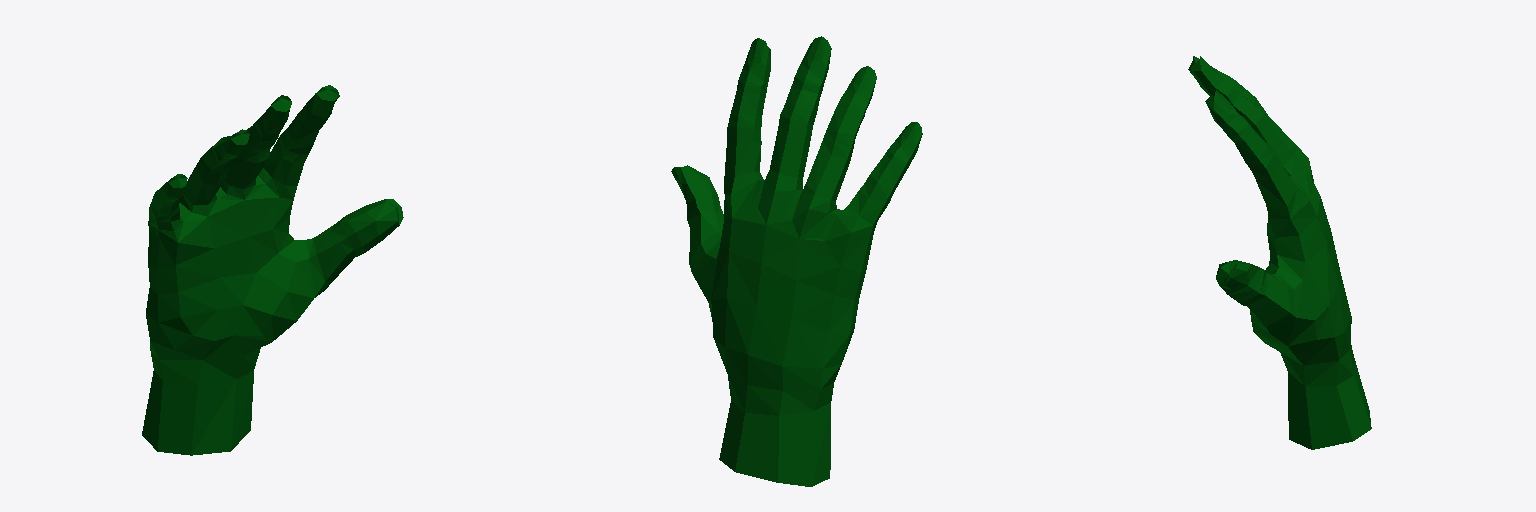
Rendered from hand.obj.
3 renders of one model, left to right at view 1: azimuth 30°, elevation 25°; view 2: azimuth 150°, elevation 25°; view 3: azimuth 270°, elevation 25°, orthographic.
Parts seen in each view (by area): view 1: Plane005_Untitled; view 2: Plane005_Untitled; view 3: Plane005_Untitled.
Boxes of the visible parts, box(x1,y1,x2,y2) form: Plane005_Untitled: box(142, 85, 403, 455); Plane005_Untitled: box(671, 36, 922, 486); Plane005_Untitled: box(1188, 56, 1371, 449).
Size of the model in its own units: 0.6649 by 1.01 by 0.4353.